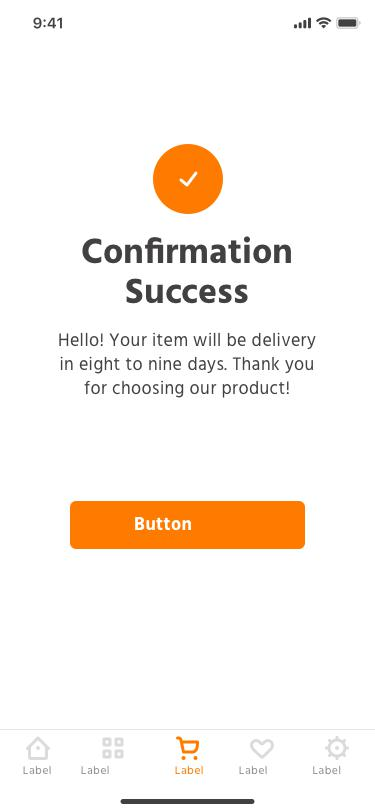Bottom_Navigation: (1, 730, 375, 788)
Icon: (153, 144, 225, 216), (25, 735, 51, 761), (175, 735, 200, 761), (101, 735, 125, 760), (325, 736, 350, 760), (249, 738, 274, 759)
Text: (57, 330, 317, 399), (80, 235, 292, 306), (80, 763, 111, 776), (174, 764, 205, 777), (21, 764, 53, 776), (237, 764, 268, 776), (311, 764, 342, 776)
TextButton: (70, 501, 306, 550)
UpperTaskBar: (33, 17, 362, 31)
